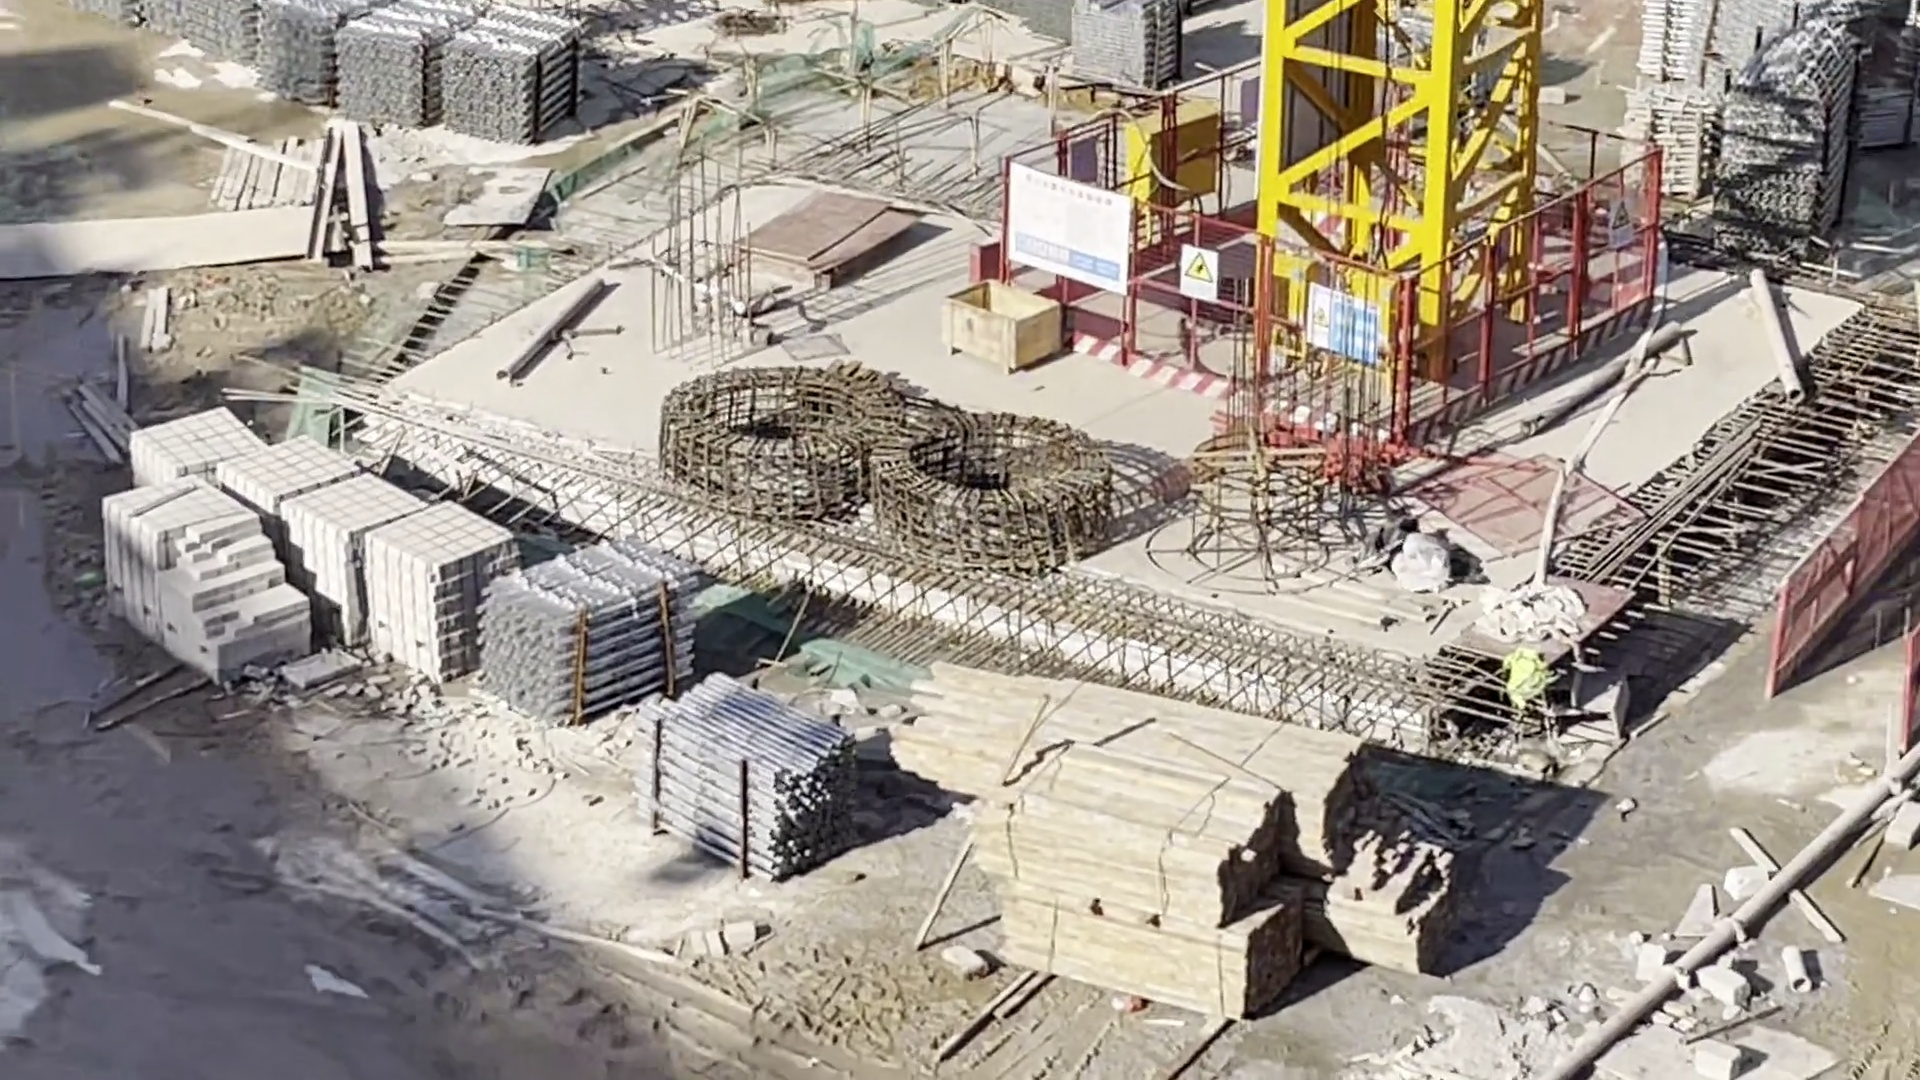board: (750, 195, 899, 285)
brick: (144, 396, 495, 676), (104, 484, 301, 673)
ebox: (1124, 108, 1216, 207)
fence: (1774, 419, 1920, 696)
scaffold: (642, 679, 856, 880), (483, 542, 692, 727), (1713, 33, 1842, 243), (444, 7, 582, 137), (334, 1, 475, 127), (189, 1, 324, 105), (1625, 79, 1709, 199), (1072, 1, 1179, 92)
slogan: (1305, 287, 1375, 363), (1182, 245, 1218, 299), (1607, 200, 1635, 245)
wood: (899, 673, 1370, 880), (985, 760, 1294, 922), (1004, 899, 1309, 1019)
